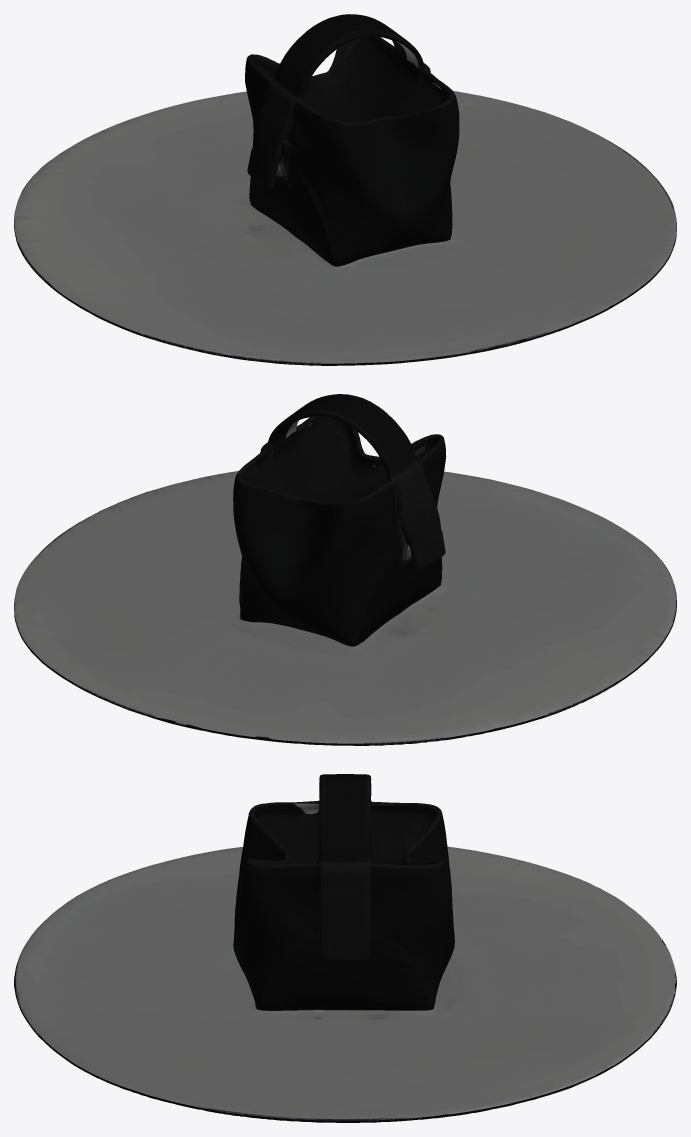
File: acessorios-conservative.glb
The picture shows the model from 3 angles, top to bottom: view 1: azimuth 30°, elevation 25°; view 2: azimuth 150°, elevation 25°; view 3: azimuth 270°, elevation 25°; orthographic projection.
Parts seen in each view (by area): view 1: textured_mesh; view 2: textured_mesh; view 3: textured_mesh.
Part boxes in pixels (left/top/right/bottom): textured_mesh: left=14, top=14, right=676, bottom=365; textured_mesh: left=14, top=394, right=676, bottom=745; textured_mesh: left=14, top=774, right=676, bottom=1122.
Size of the model in its own units: 1.99 by 0.6783 by 1.99.
Materials: 1 (1 with a texture image).
